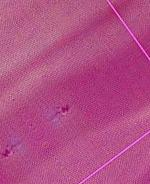knot: (54, 101, 74, 119), (1, 144, 15, 161)
